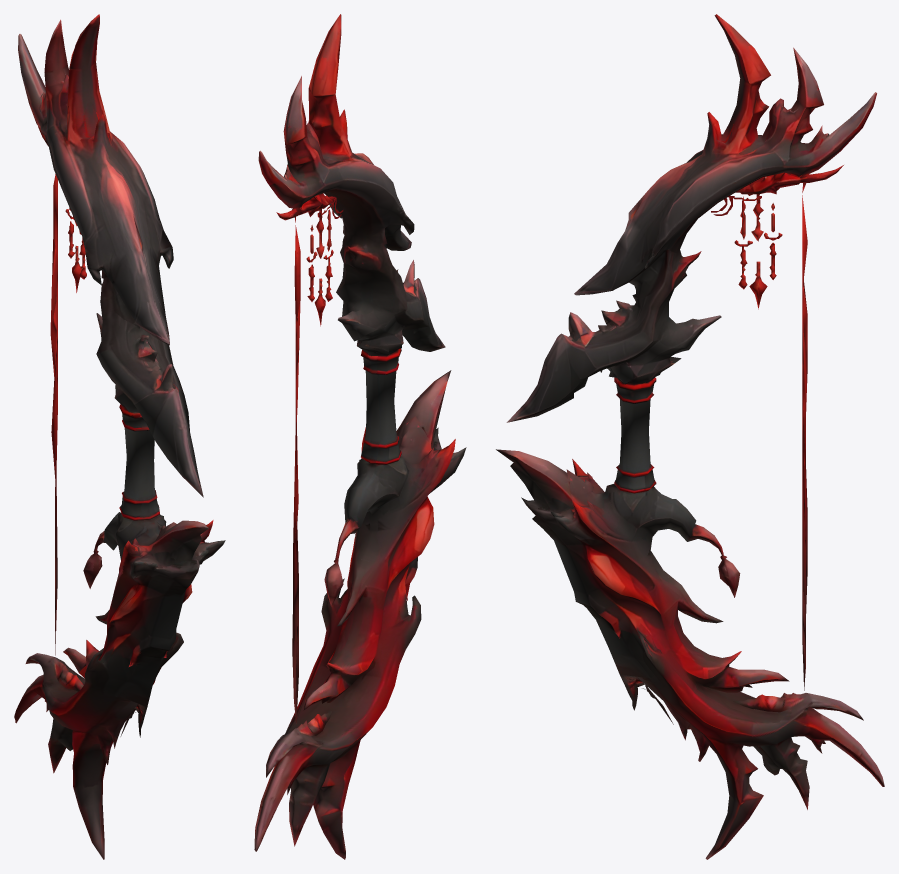
File: Bow2.glb
3 renders of one model, left to right at view 1: azimuth 30°, elevation 25°; view 2: azimuth 150°, elevation 25°; view 3: azimuth 270°, elevation 25°, orthographic.
Parts seen in each view (by area): view 1: tripo_node_8139f3e9-fd9f-4934-a76b-907c4176f865; view 2: tripo_node_8139f3e9-fd9f-4934-a76b-907c4176f865; view 3: tripo_node_8139f3e9-fd9f-4934-a76b-907c4176f865.
Boxes of the visible parts, x1,y1,x2,y2 form: tripo_node_8139f3e9-fd9f-4934-a76b-907c4176f865: [14, 14, 225, 859]; tripo_node_8139f3e9-fd9f-4934-a76b-907c4176f865: [254, 14, 466, 859]; tripo_node_8139f3e9-fd9f-4934-a76b-907c4176f865: [496, 14, 884, 859].
Size of the model in its own units: 0.1194 by 1 by 0.4168.
Materials: 1 (1 with a texture image).
